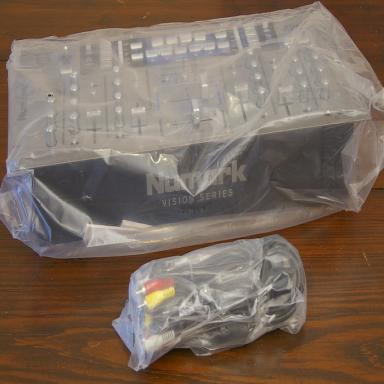plasticbag: (109, 230, 310, 372)
